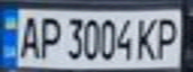0: (81, 15, 100, 62), (100, 15, 118, 62)
3: (63, 14, 84, 61)
4: (115, 15, 136, 61)
A: (15, 12, 42, 60)
K: (133, 15, 160, 61)
P: (151, 14, 184, 61), (36, 12, 63, 60)
